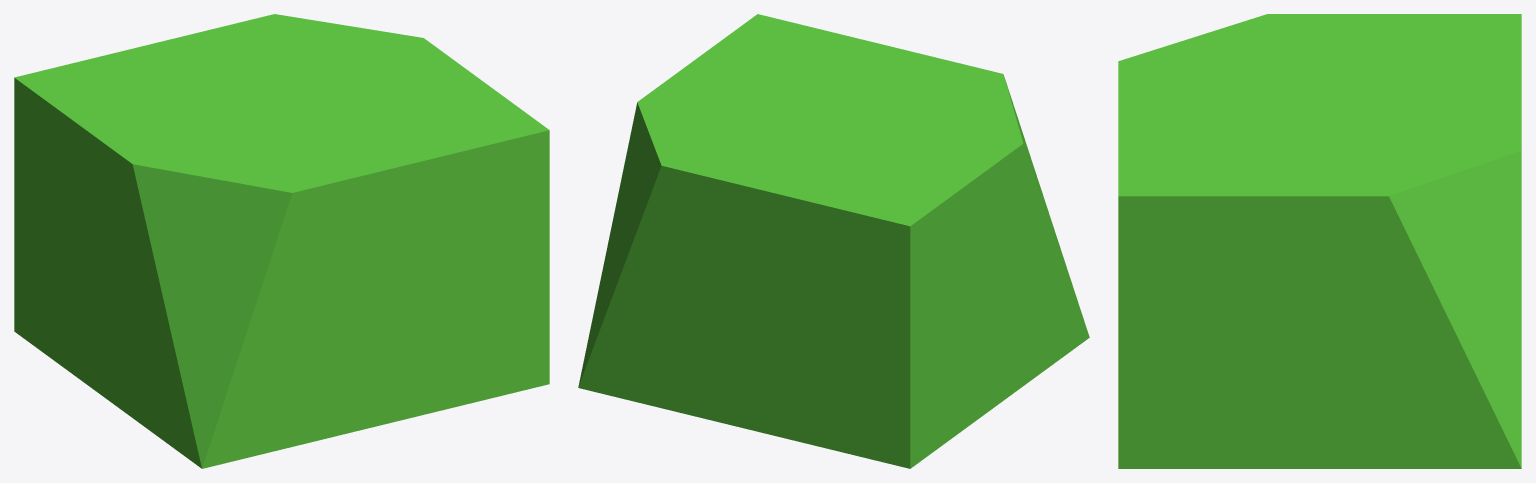
The model's file is Pavement_04.fbx.
The picture shows the model from 3 angles, left to right: view 1: azimuth 30°, elevation 25°; view 2: azimuth 150°, elevation 25°; view 3: azimuth 270°, elevation 25°; orthographic projection. The views are drawn at different scales.
Visible parts, largest first — view 1: Pavement_04; view 2: Pavement_04; view 3: Pavement_04.
Part boxes in pixels (x1,y1,x2,y2): Pavement_04: (14,14,549,468); Pavement_04: (578,14,1089,468); Pavement_04: (1118,14,1521,468).
Bounding box in the file's own units: 23.25 × 16.23 × 21.76.
